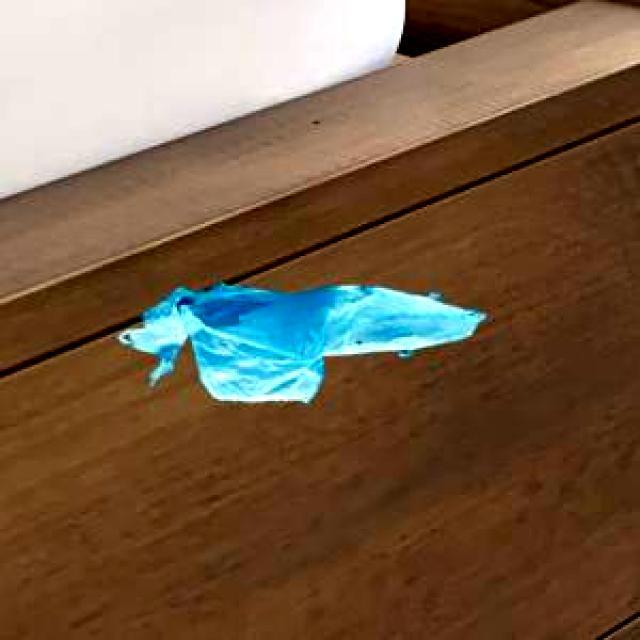Plastic_Bag: (116, 280, 481, 400)
